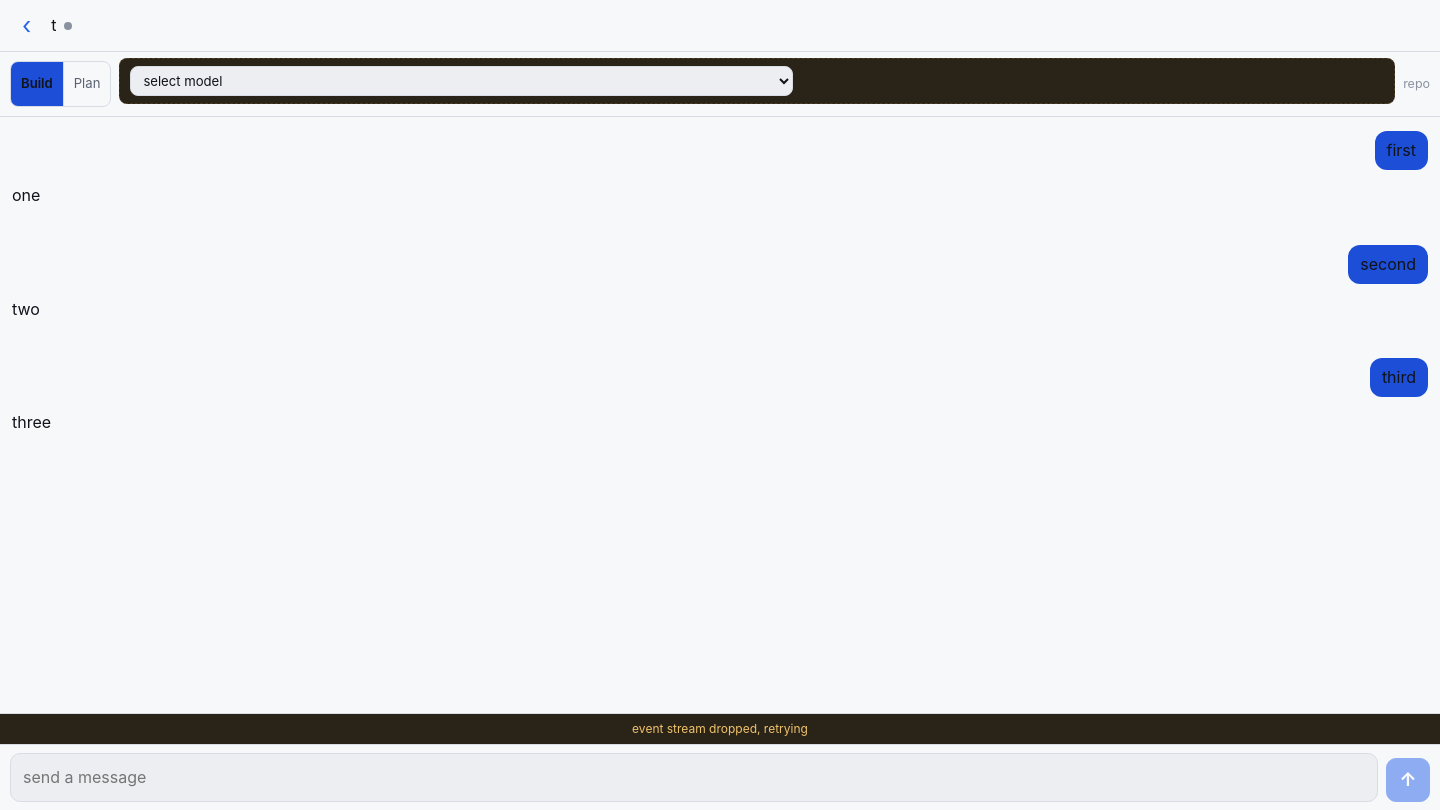
Test: long-press actions › hides the reverted tail, which the server keeps sending
The width and height of the screenshot is (1440, 810).
Expected: the text "third" is shown, [1382,367,1416,387]
Press the mouse on the button named "Send" at (1408, 780), box [1386,758,1430,802]
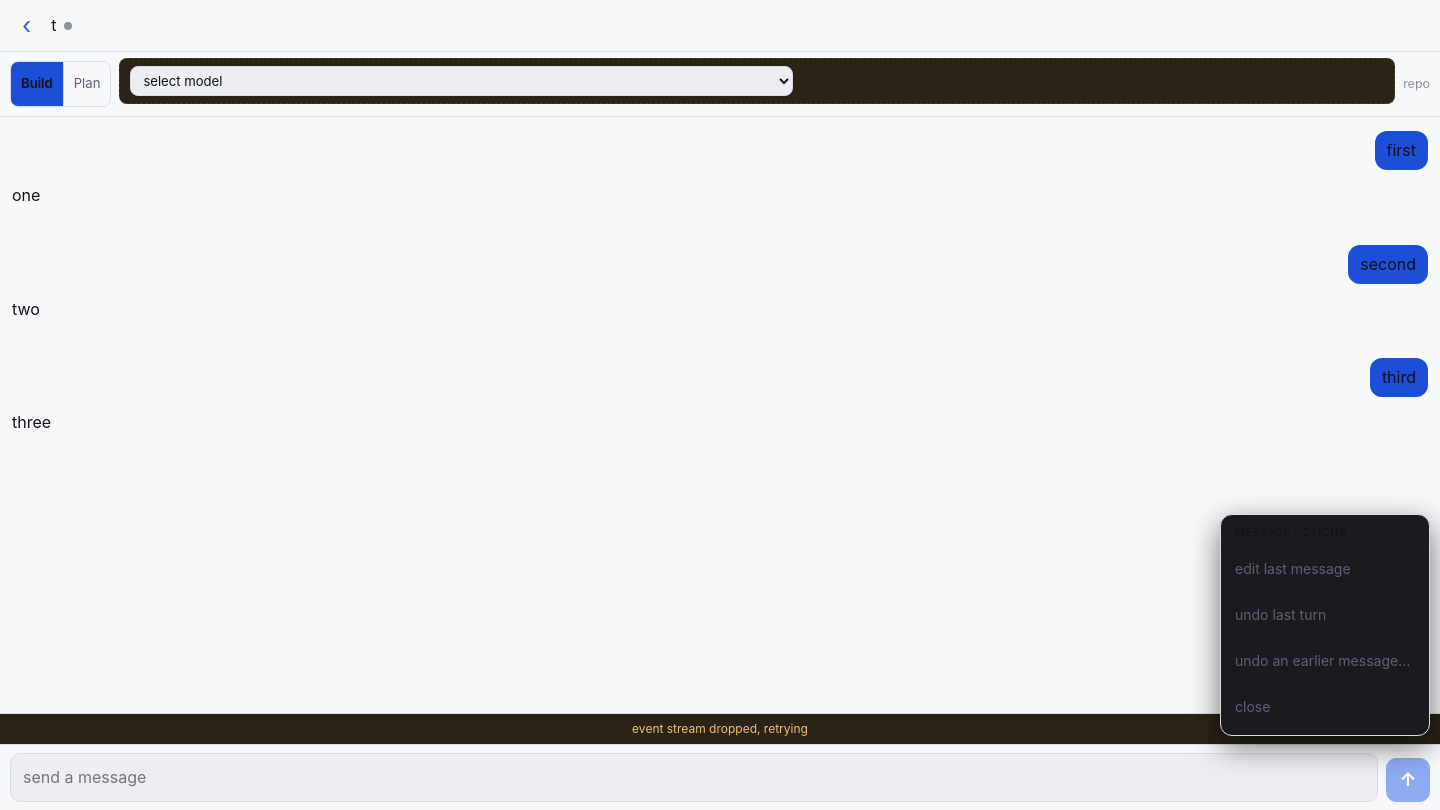
Click the menu item "undo last turn" at (1325, 615), box [1227,593,1423,637]
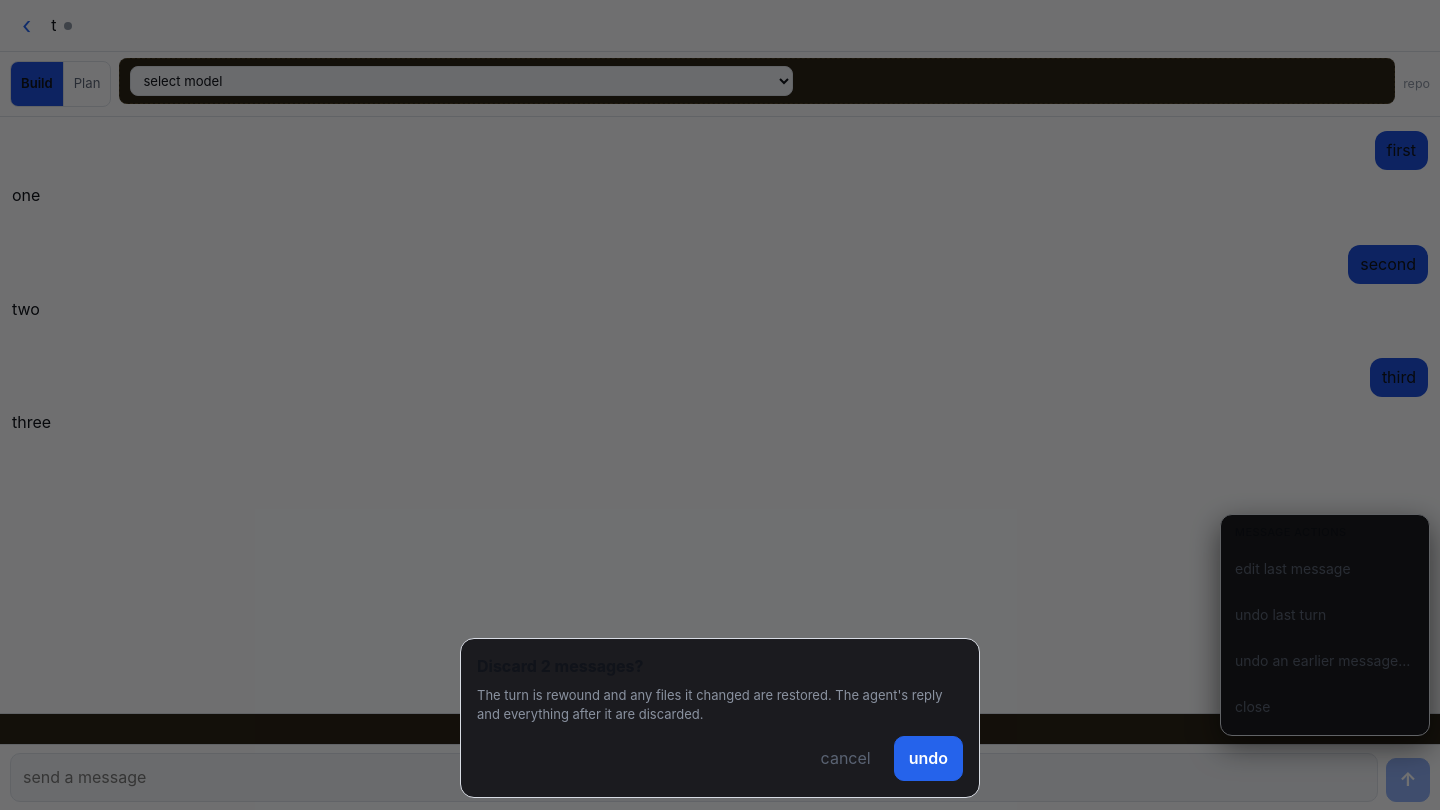
Click the button "undo" at (928, 758), box [894,736,963,781]
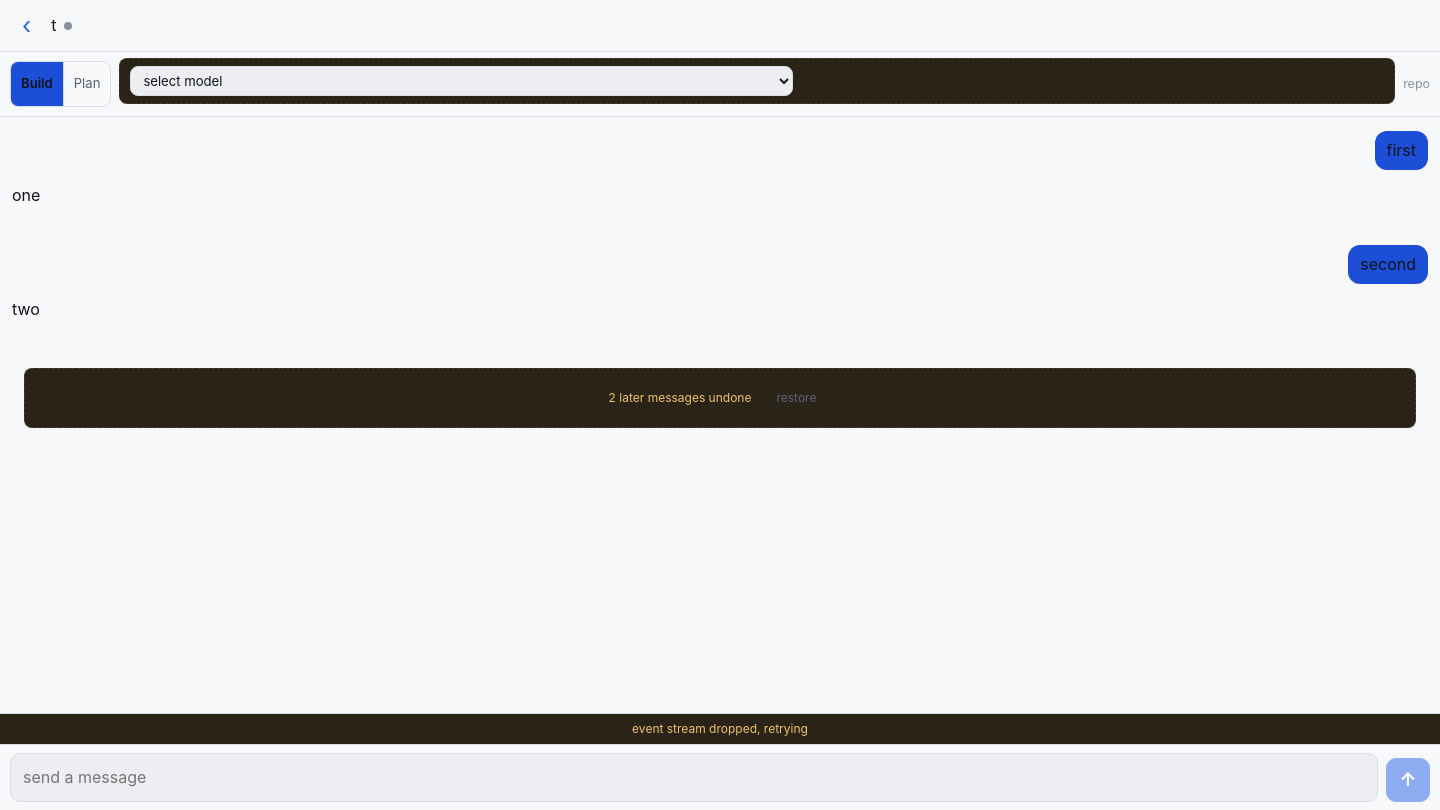
Expected: the text "2 later messages undone" is shown, [609,389,751,407]
Expected: the text "third" is gone
Expected: the text "three" is gone
